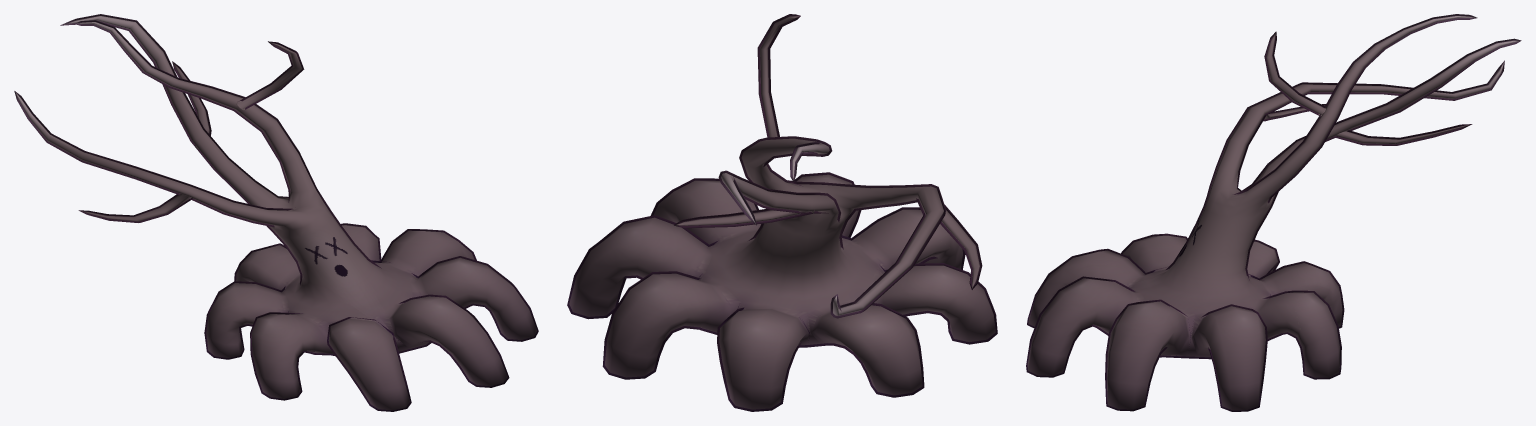
File: DedTree.fbx
The picture shows the model from 3 angles, left to right: view 1: azimuth 30°, elevation 25°; view 2: azimuth 150°, elevation 25°; view 3: azimuth 270°, elevation 25°; orthographic projection. The views are drawn at different scales.
Parts seen in each view (by area): view 1: DeadTree; view 2: DeadTree; view 3: DeadTree.
Boxes of the visible parts, x1,y1,x2,y2 form: DeadTree: (14, 14, 538, 411); DeadTree: (567, 14, 997, 411); DeadTree: (1026, 14, 1521, 411).
Bounding box in the file's own units: 886 × 677 × 1057.
Materials: 2 (2 with a texture image).
